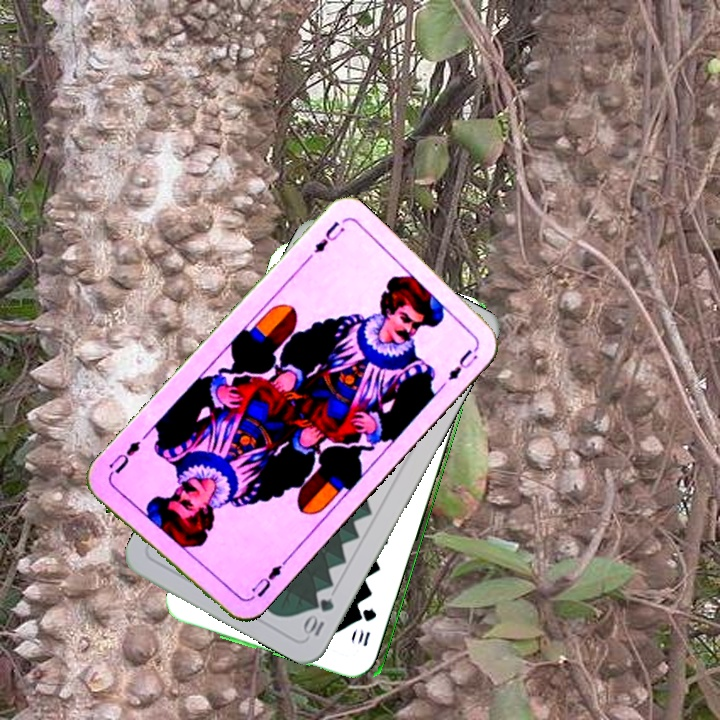EU: (247, 558, 288, 601), (310, 217, 348, 256)
G10: (299, 593, 337, 639), (354, 604, 379, 649)
